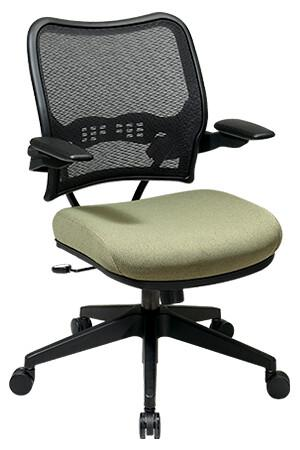chair: (10, 12, 291, 440)
